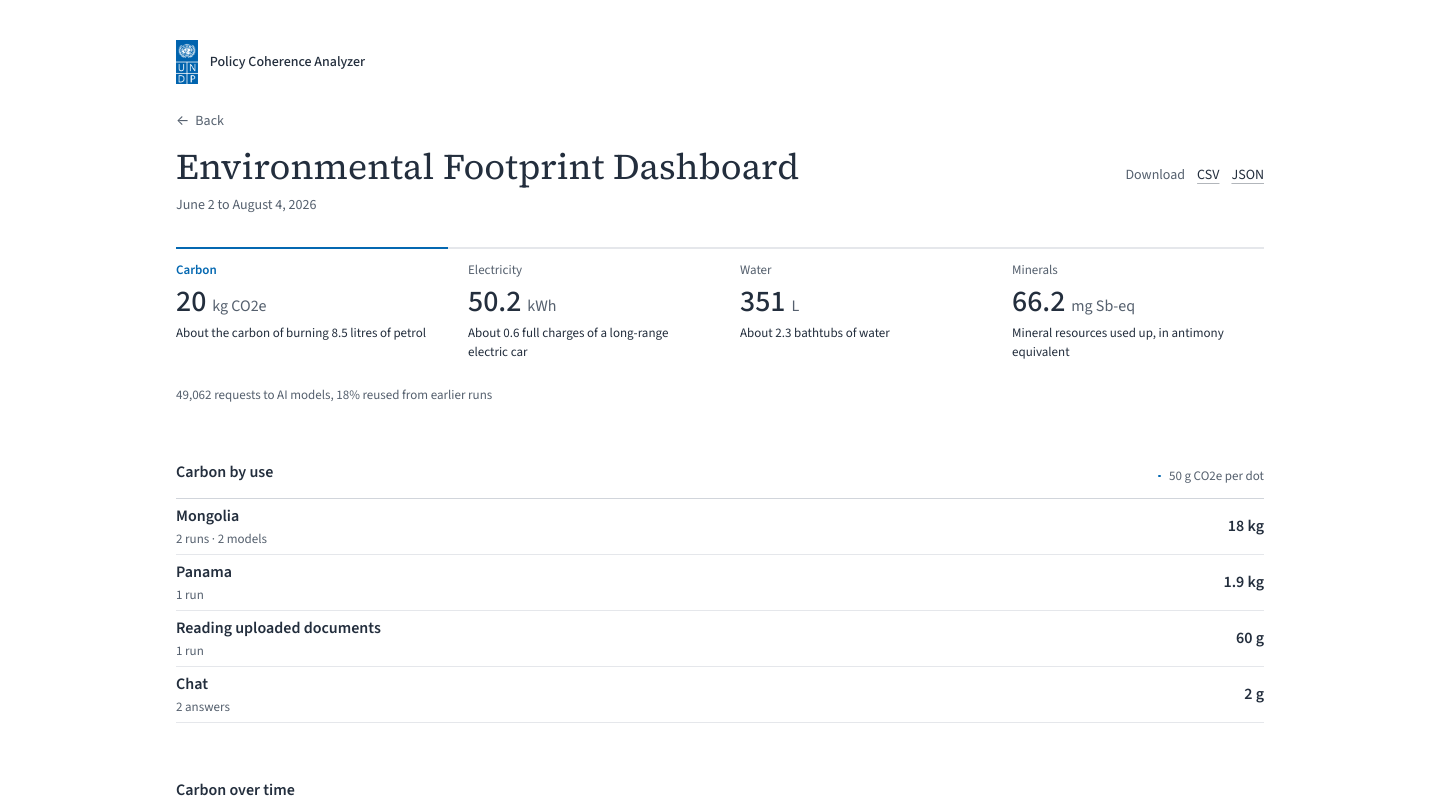
SustainabilityClient › switches everything below to the resource chosen among the four figures
This screenshot has width=1440, height=810.
Click the button with test id "fp-figure".
click(756, 270)  # box [720,247,992,378]
(page scrolled)
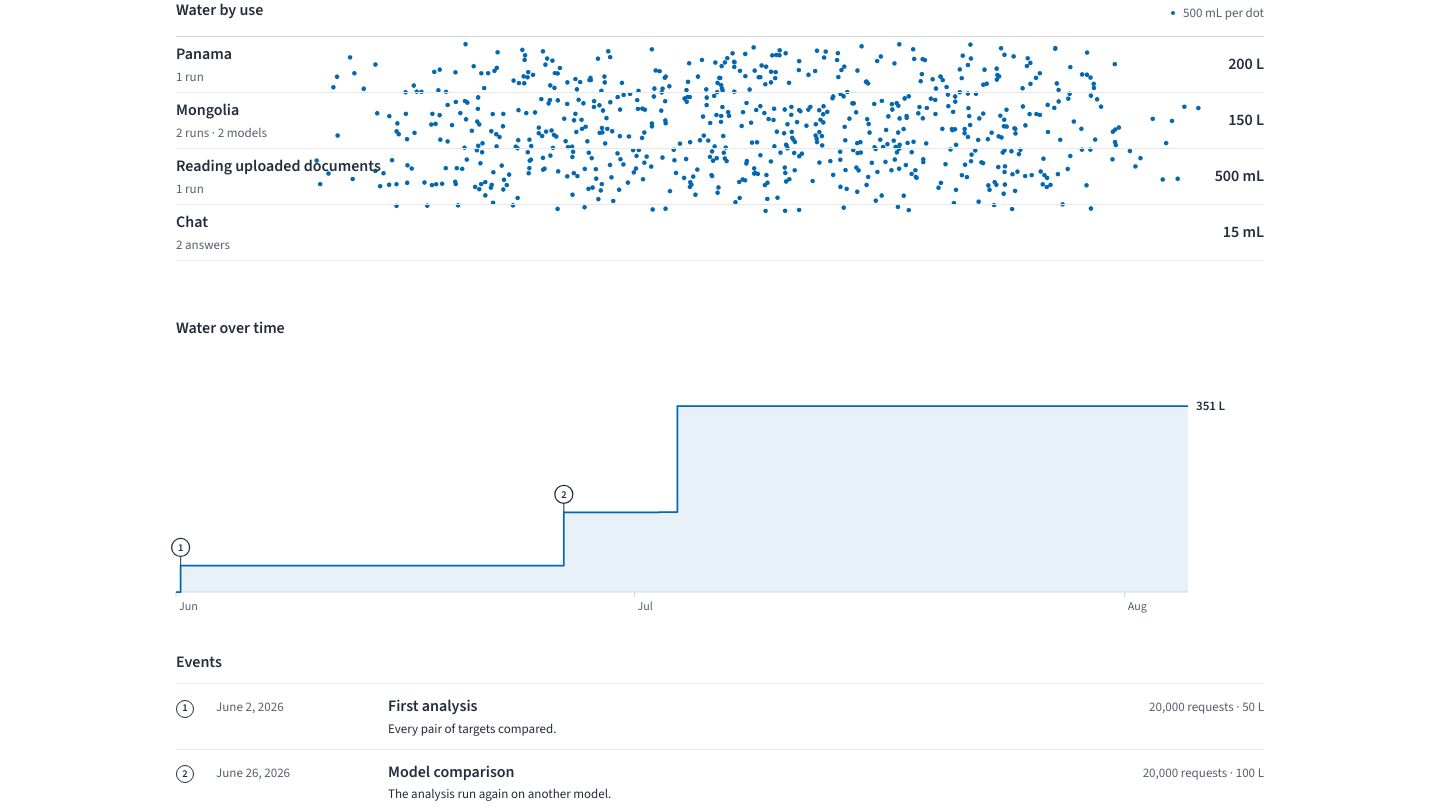
Expected: the heading "Water over time" is shown, [176,317,285,339]
Expected: the text with class "fp-row-value" reads "200 L", [1228,53,1264,75]
